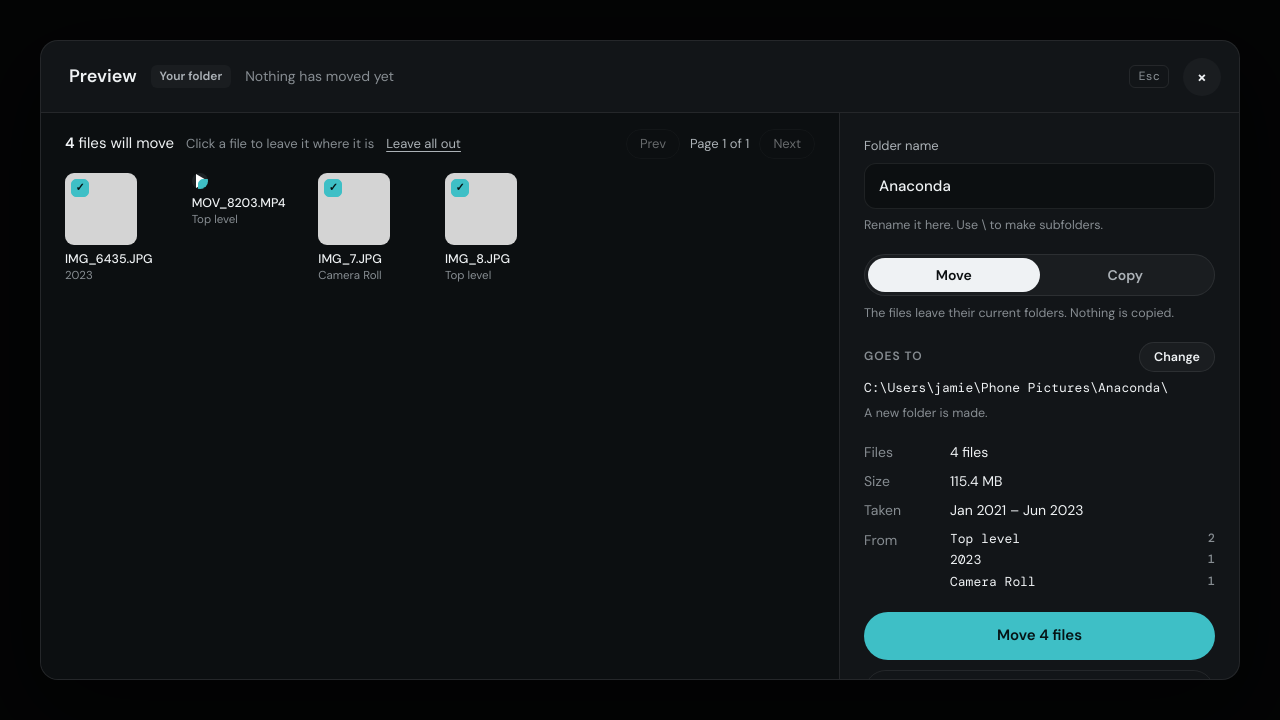
Scenario: the preview › takes a new name for the folder, and plans again for it
This screenshot has width=1280, height=720.
Expected: the button "Move 4 files" is enabled, [864,612,1215,660]
Expected: the dialog "Preview" shows "Your folder", [160,68,222,84]
Clear the field at (1040, 186), box [864,163,1215,209]
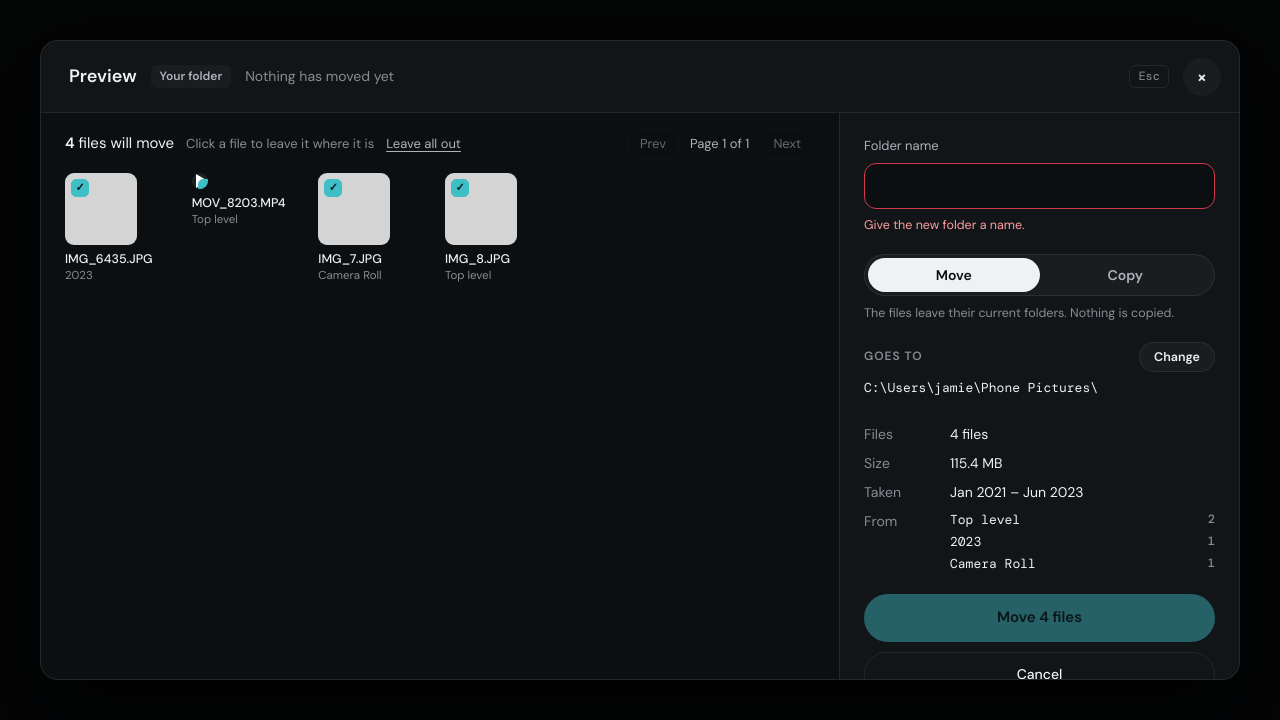
Expected: the message reads "Give the new folder a name.", [864,217,1024,233]
Expected: the button "Move 4 files" is disabled, [864,594,1215,642]
Type "What?" into the field at (1040, 186), box [864,163,1215,209]
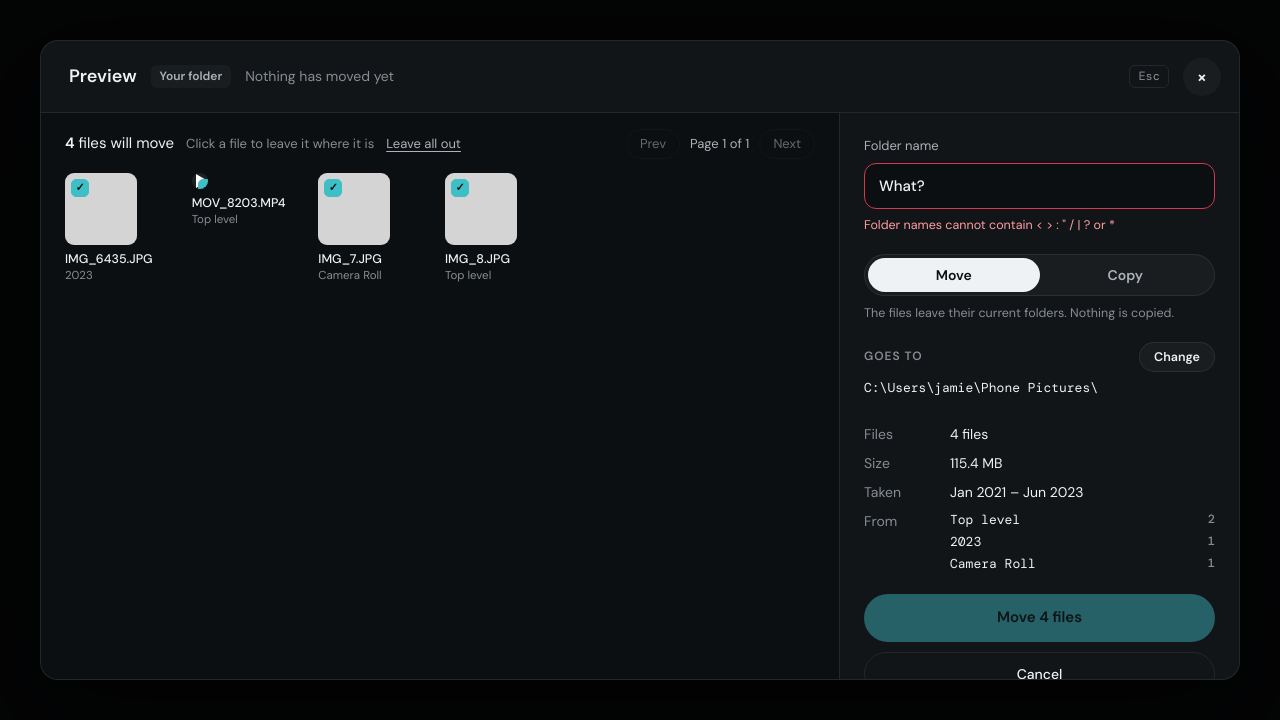
Expected: the message reads "Folder names cannot contain < > : \" / | ? or *", [864,217,1115,233]
Replace the text in the field with "Trips\\Glacier 2022" at (1040, 186), box [864,163,1215,209]
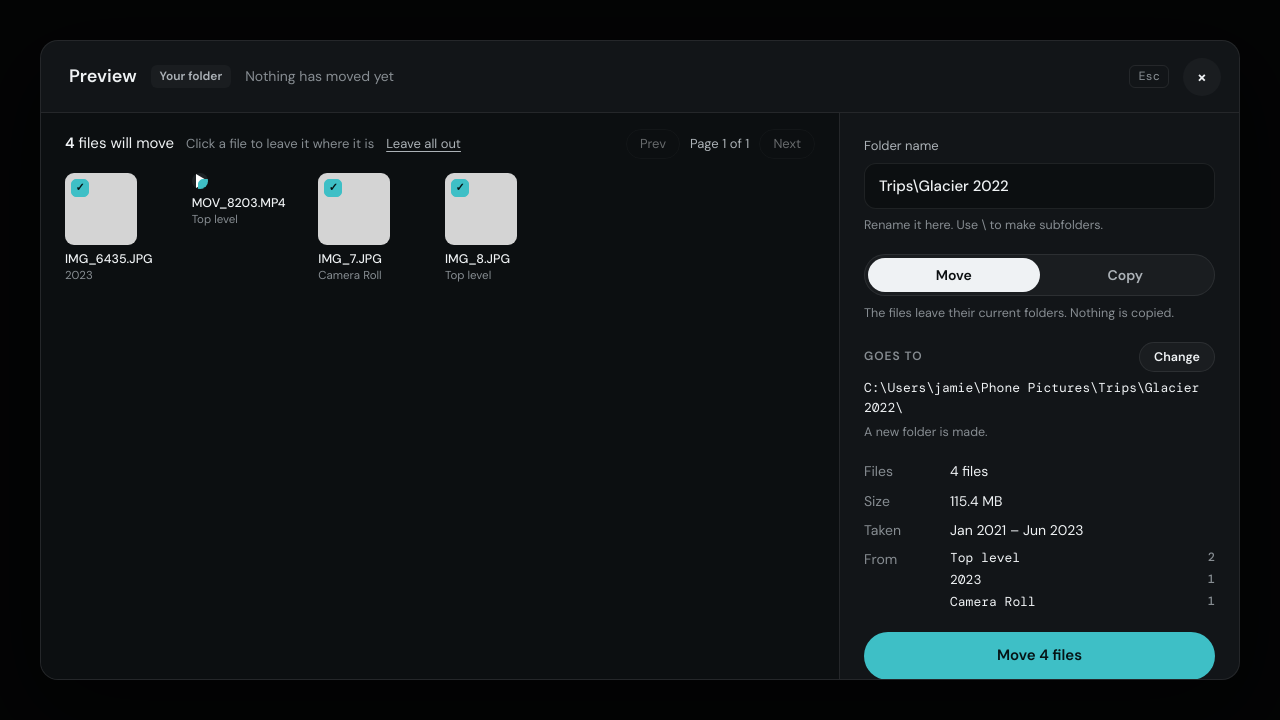
Expected: the button "Move 4 files" is enabled, [864,632,1215,679]
